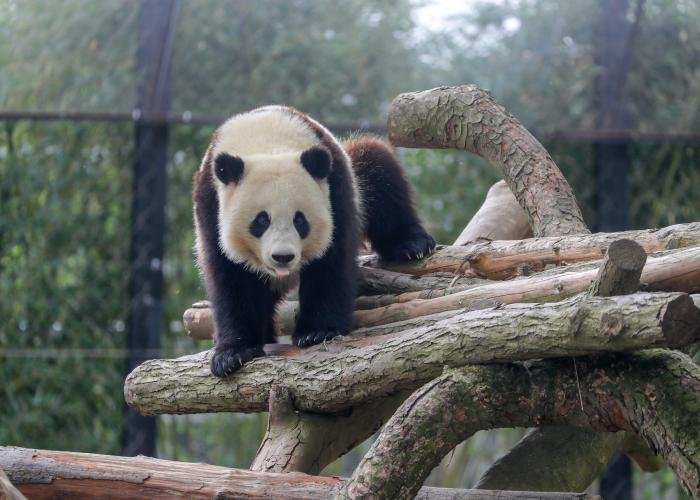Giant panda: (215, 145, 334, 275)
